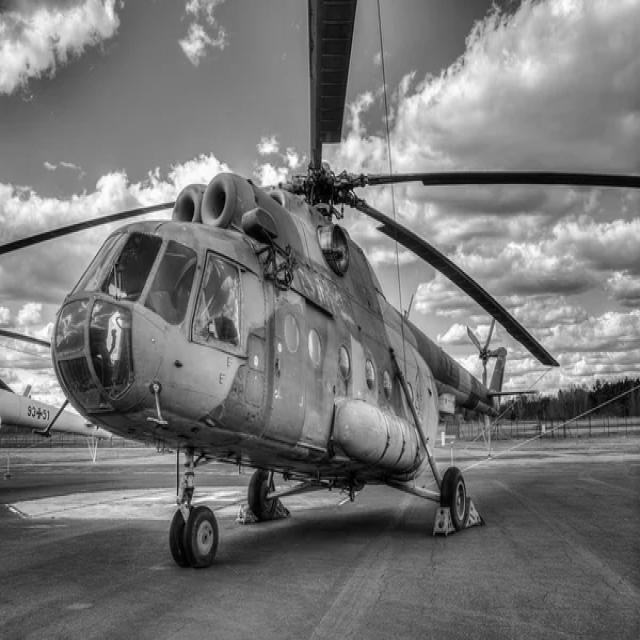Helicopter: (50, 0, 640, 569)
